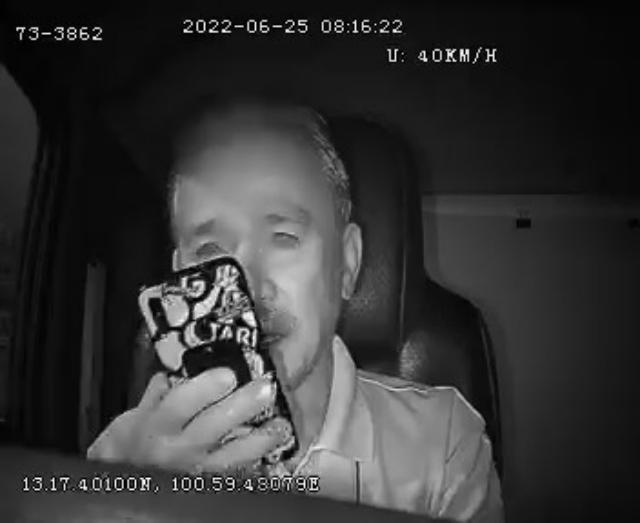PhoneUse: (138, 257, 302, 465)
SafeDriving: (264, 213, 308, 251)
